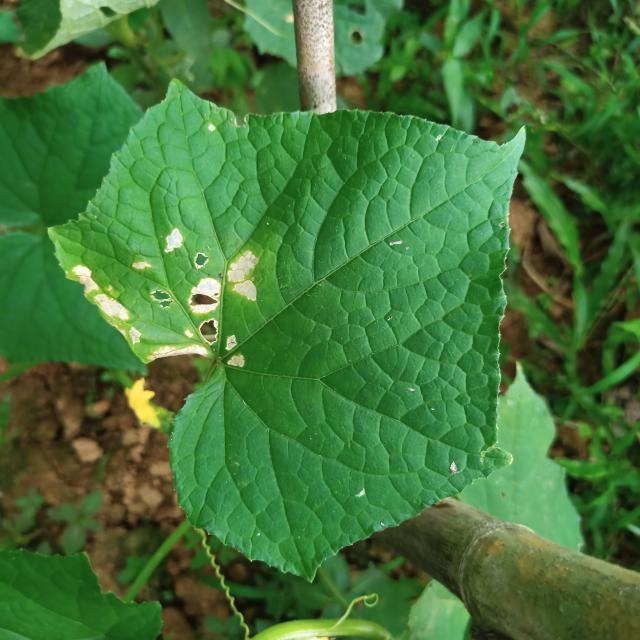disease_cucumber: (73, 228, 258, 372)
